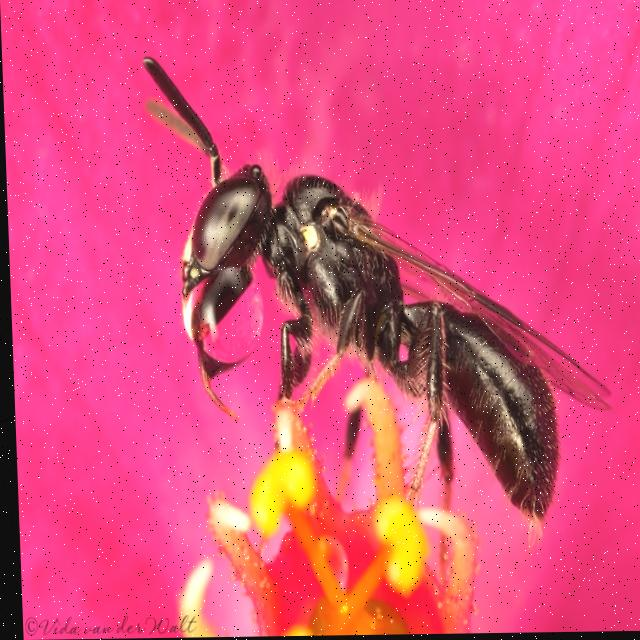Braunsapis: (135, 35, 623, 552)
